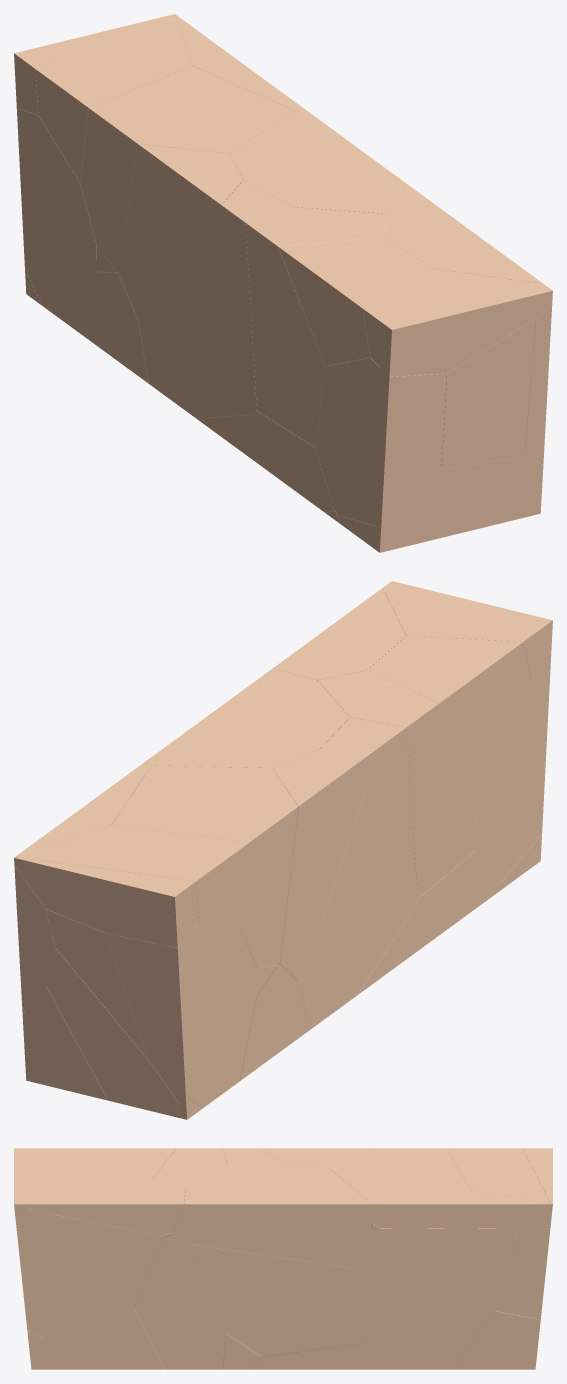
The model's file is Wall_00.fbx.
3 renders of one model, top to bottom at view 1: azimuth 30°, elevation 25°; view 2: azimuth 150°, elevation 25°; view 3: azimuth 270°, elevation 25°, orthographic. The views are drawn at different scales.
Visible parts, largest first — view 1: Wall_cell.012, Wall_cell.027, Wall_cell.013, Wall_cell.031, Wall_cell.024, Wall_cell.017, Wall_cell.026, Wall_cell.010, Wall_cell.019, Wall_cell.022, Wall_cell.018, Wall_cell.006 (+7 smaller); view 2: Wall_cell.012, Wall_cell.010, Wall_cell.013, Wall_cell.031, Wall_cell.017, Wall_cell.026, Wall_cell.019, Wall_cell.022, Wall_cell.005, Wall_cell.027, Wall_cell.002, Wall_cell.024 (+9 smaller); view 3: Wall_cell.014, Wall_cell.026, Wall_cell.028, Wall_cell.016, Wall_cell.021, Wall_cell.008, Wall_cell, Wall_cell.013, Wall_cell.003, Wall_cell.022, Wall_cell.004, Wall_cell.015 (+9 smaller).
Part boxes in pixels (<box>): Wall_cell.012: <box>139,180,293,418</box>; Wall_cell.027: <box>315,357,446,527</box>; Wall_cell.013: <box>80,66,294,273</box>; Wall_cell.031: <box>245,207,387,446</box>; Wall_cell.024: <box>362,268,552,376</box>; Wall_cell.017: <box>119,144,243,321</box>; Wall_cell.026: <box>229,109,433,213</box>; Wall_cell.010: <box>16,108,96,332</box>; Wall_cell.019: <box>278,237,433,366</box>; Wall_cell.022: <box>35,15,191,183</box>; Wall_cell.018: <box>337,457,543,552</box>; Wall_cell.006: <box>441,319,535,468</box>; Wall_cell.012: <box>299,717,417,1030</box>; Wall_cell.010: <box>107,923,257,1107</box>; Wall_cell.013: <box>111,765,298,967</box>; Wall_cell.031: <box>317,670,485,898</box>; Wall_cell.017: <box>273,745,381,982</box>; Wall_cell.026: <box>144,668,349,767</box>; Wall_cell.019: <box>368,636,530,753</box>; Wall_cell.022: <box>17,825,249,930</box>; Wall_cell.005: <box>14,857,198,947</box>; Wall_cell.027: <box>476,671,550,884</box>; Wall_cell.002: <box>46,948,178,1117</box>; Wall_cell.024: <box>383,581,552,679</box>; Wall_cell.014: <box>354,1228,521,1369</box>; Wall_cell.026: <box>171,1163,372,1268</box>; Wall_cell.028: <box>187,1244,363,1356</box>; Wall_cell.016: <box>15,1210,163,1337</box>; Wall_cell.021: <box>134,1235,226,1369</box>; Wall_cell.008: <box>27,1179,185,1235</box>; Wall_cell: <box>367,1190,551,1228</box>; Wall_cell.013: <box>330,1148,470,1229</box>; Wall_cell.003: <box>43,1308,164,1369</box>; Wall_cell.022: <box>446,1148,550,1209</box>; Wall_cell.004: <box>452,1311,540,1369</box>; Wall_cell.015: <box>495,1209,552,1319</box>.
Bounding box in the file's own units: 226 × 311 × 918.
